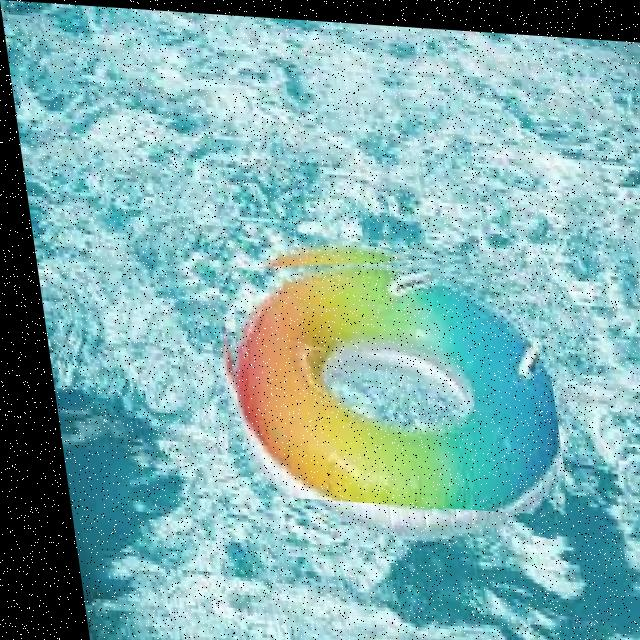lifesaver: (223, 255, 546, 505)
